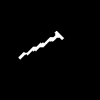half_double_crochet: (19, 31, 62, 58)
